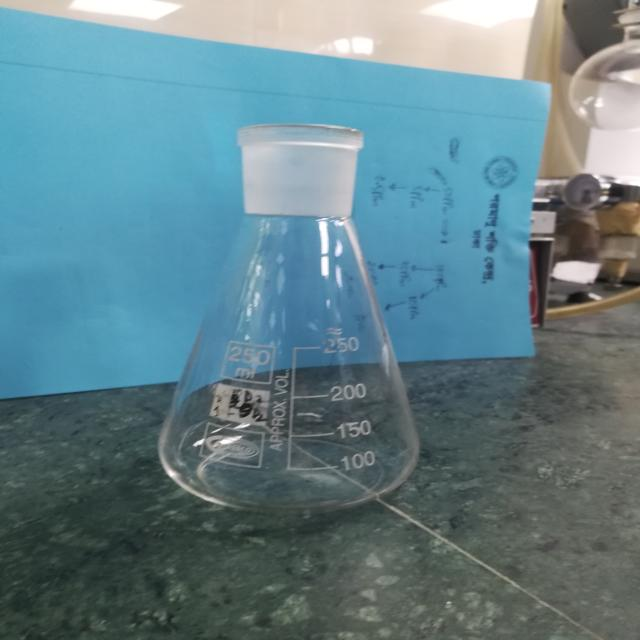Conical_Flask: (136, 88, 488, 552)
